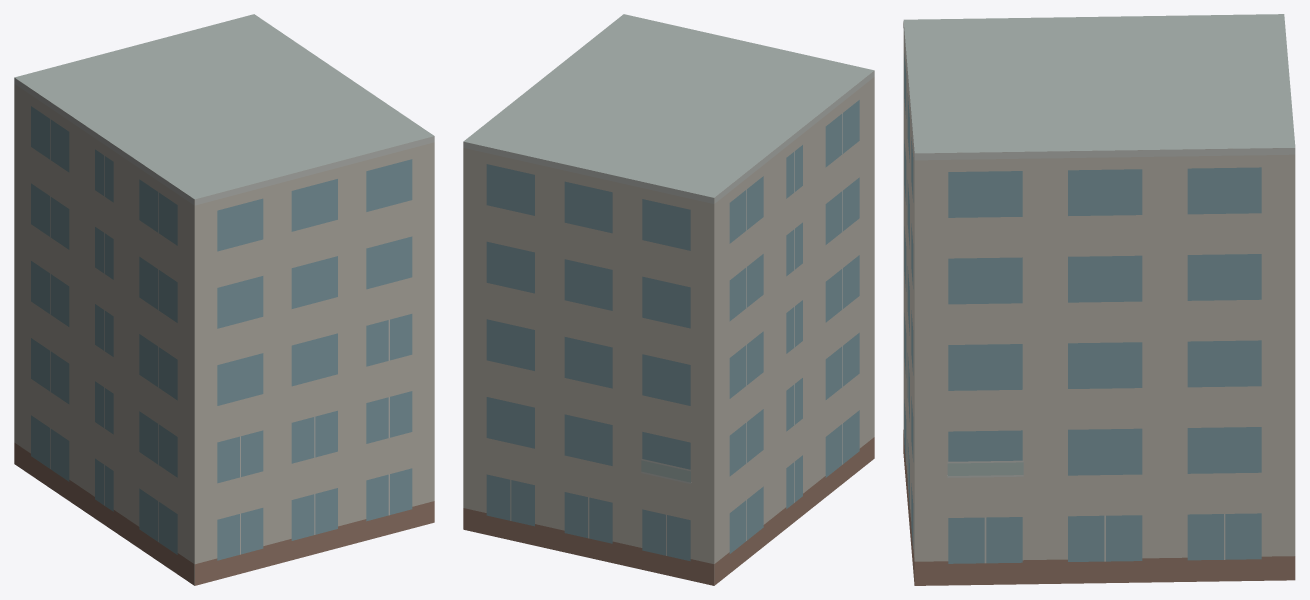
File: survey-upis-32625468.glb
3 views of the same model, side by side, from view 1: azimuth 30°, elevation 25°; view 2: azimuth 150°, elevation 25°; view 3: azimuth 270°, elevation 25° (orthographic). The views are drawn at different scales.
Visible parts, largest first — view 1: survey-upis-32625468.tmp; view 2: survey-upis-32625468.tmp; view 3: survey-upis-32625468.tmp.
Part boxes in pixels (left/top/right/bottom): survey-upis-32625468.tmp: left=14, top=14, right=434, bottom=585; survey-upis-32625468.tmp: left=463, top=14, right=874, bottom=585; survey-upis-32625468.tmp: left=903, top=14, right=1295, bottom=585.
Size of the model in its own units: 10.52 by 15.2 by 12.5.
